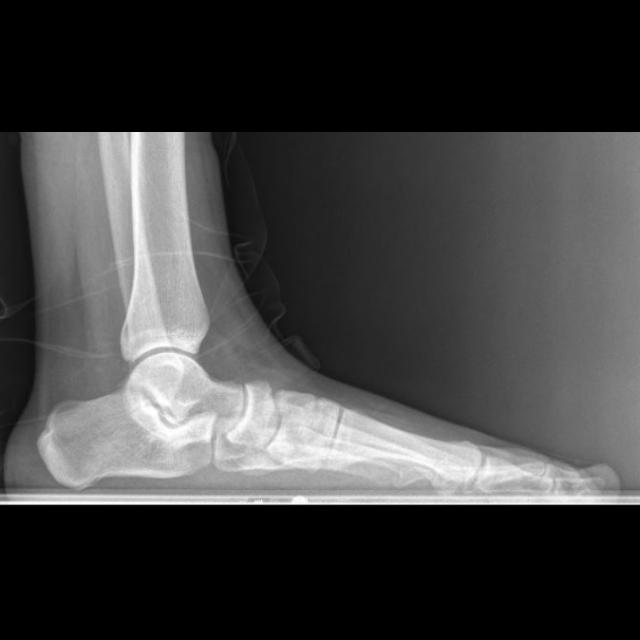a: (39, 391, 218, 488)
b: (228, 382, 278, 448)
c: (326, 408, 483, 483)
